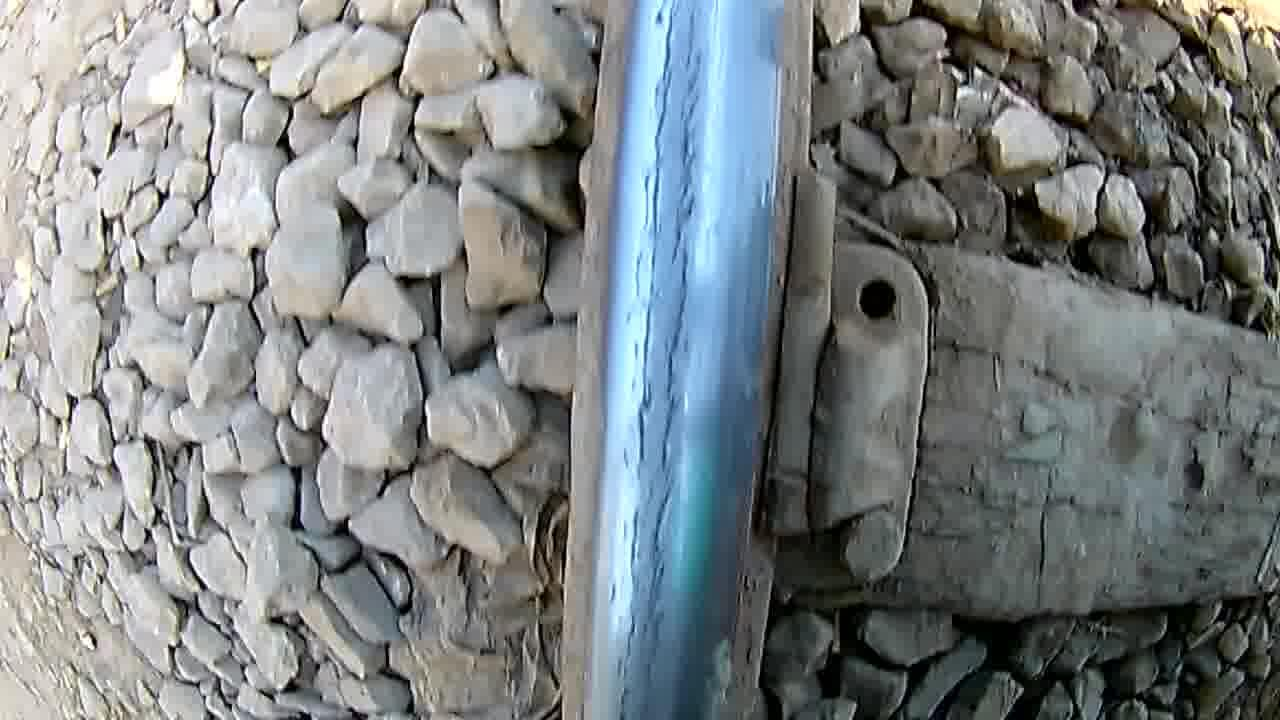normal_track: (600, 3, 721, 720)
